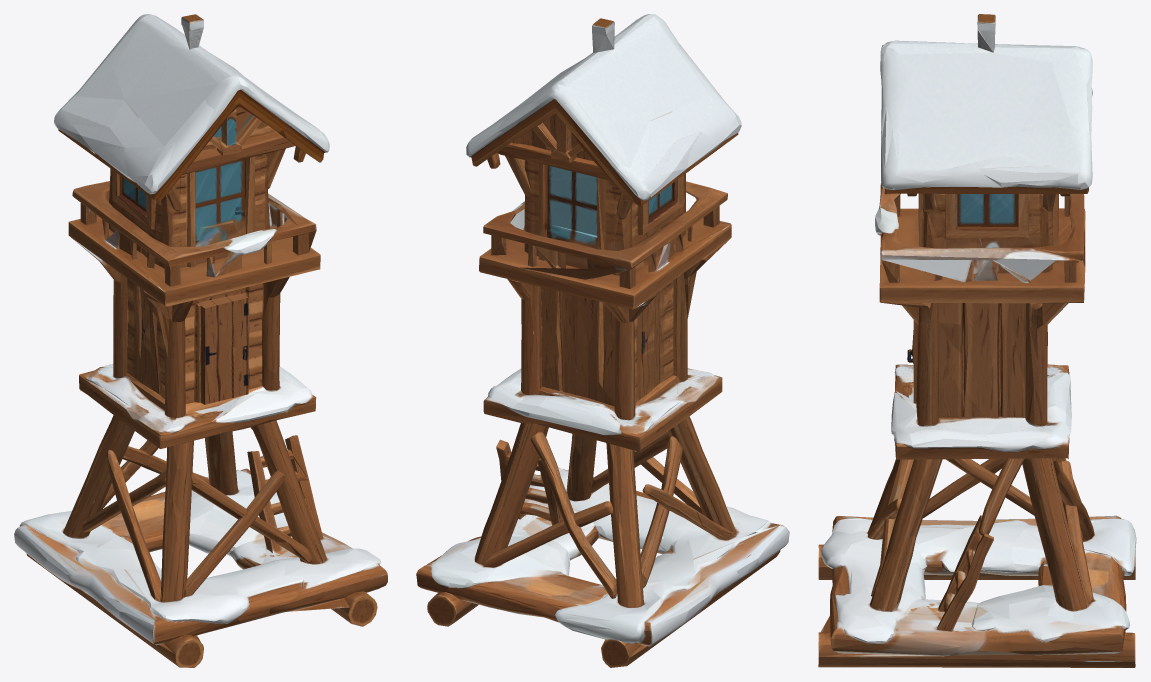
The model's file is watchtower.glb.
The picture shows the model from 3 angles, left to right: view 1: azimuth 30°, elevation 25°; view 2: azimuth 150°, elevation 25°; view 3: azimuth 270°, elevation 25°; orthographic projection. The views are drawn at different scales.
Bounding box in the file's own units: 0.8443 × 1.9 × 0.909.
1 material, 1 textured.
